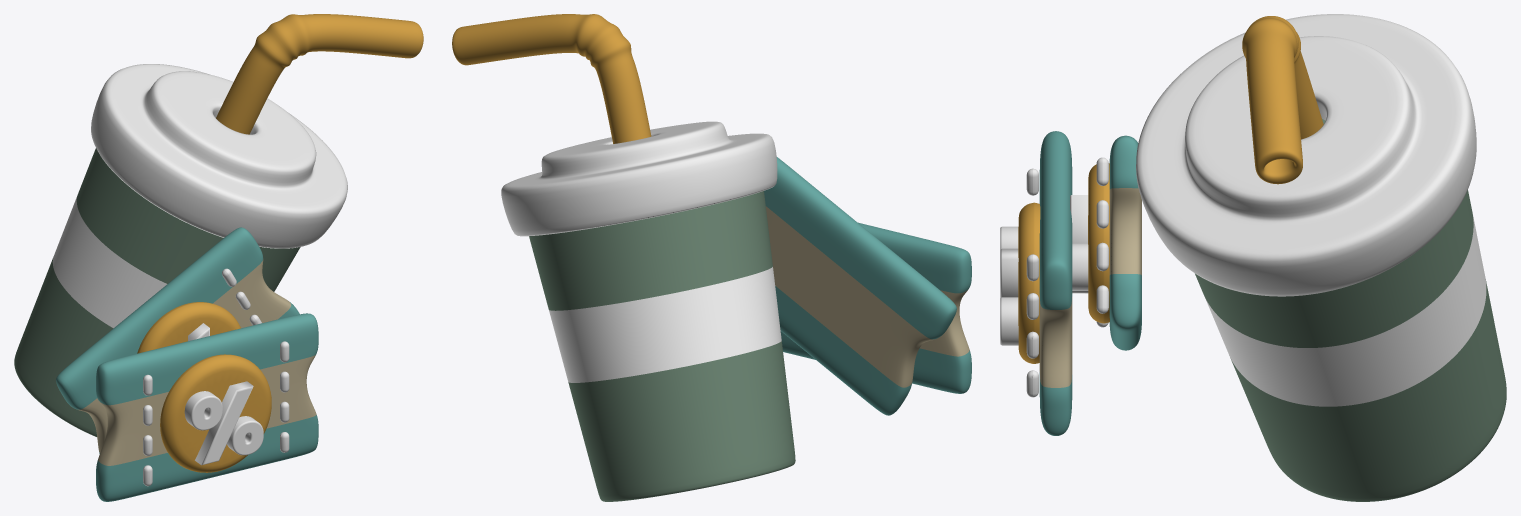
File: Drink_coupon.fbx
The picture shows the model from 3 angles, left to right: view 1: azimuth 30°, elevation 25°; view 2: azimuth 150°, elevation 25°; view 3: azimuth 270°, elevation 25°; orthographic projection. The views are drawn at different scales.
Visible parts, largest first — view 1: drink cup.001, Cube.006_Cube.002, Cube.011_Cube.016, Cylinder.002_Cylinder.001, Text, Cylinder.003; view 2: drink cup.001, Cube.011_Cube.016, Cube.006_Cube.002; view 3: drink cup.001, Cube.006_Cube.002, Cube.011_Cube.016, Cylinder.002_Cylinder.001, Cylinder.003, Text, Text.001, Cube.007_Cube.003.
Part boxes in pixels (bbox=[...]): drink cup.001: bbox=[14, 14, 423, 436]; Cube.006_Cube.002: bbox=[96, 313, 318, 501]; Cube.011_Cube.016: bbox=[56, 227, 299, 453]; Cylinder.002_Cylinder.001: bbox=[160, 354, 271, 472]; Text: bbox=[184, 381, 263, 465]; Cylinder.003: bbox=[137, 302, 240, 353]; drink cup.001: bbox=[452, 14, 795, 501]; Cube.011_Cube.016: bbox=[764, 157, 956, 415]; Cube.006_Cube.002: bbox=[780, 222, 971, 393]; drink cup.001: bbox=[1136, 14, 1506, 501]; Cube.006_Cube.002: bbox=[1039, 131, 1072, 435]; Cube.011_Cube.016: bbox=[1109, 135, 1141, 350]; Cylinder.002_Cylinder.001: bbox=[1018, 202, 1040, 363]; Cylinder.003: bbox=[1088, 163, 1109, 323]; Text: bbox=[1000, 226, 1018, 345]; Text.001: bbox=[1070, 195, 1088, 293]; Cube.007_Cube.003: bbox=[1026, 168, 1038, 281].
Bounding box in the file's own units: 357 × 336 × 290.
